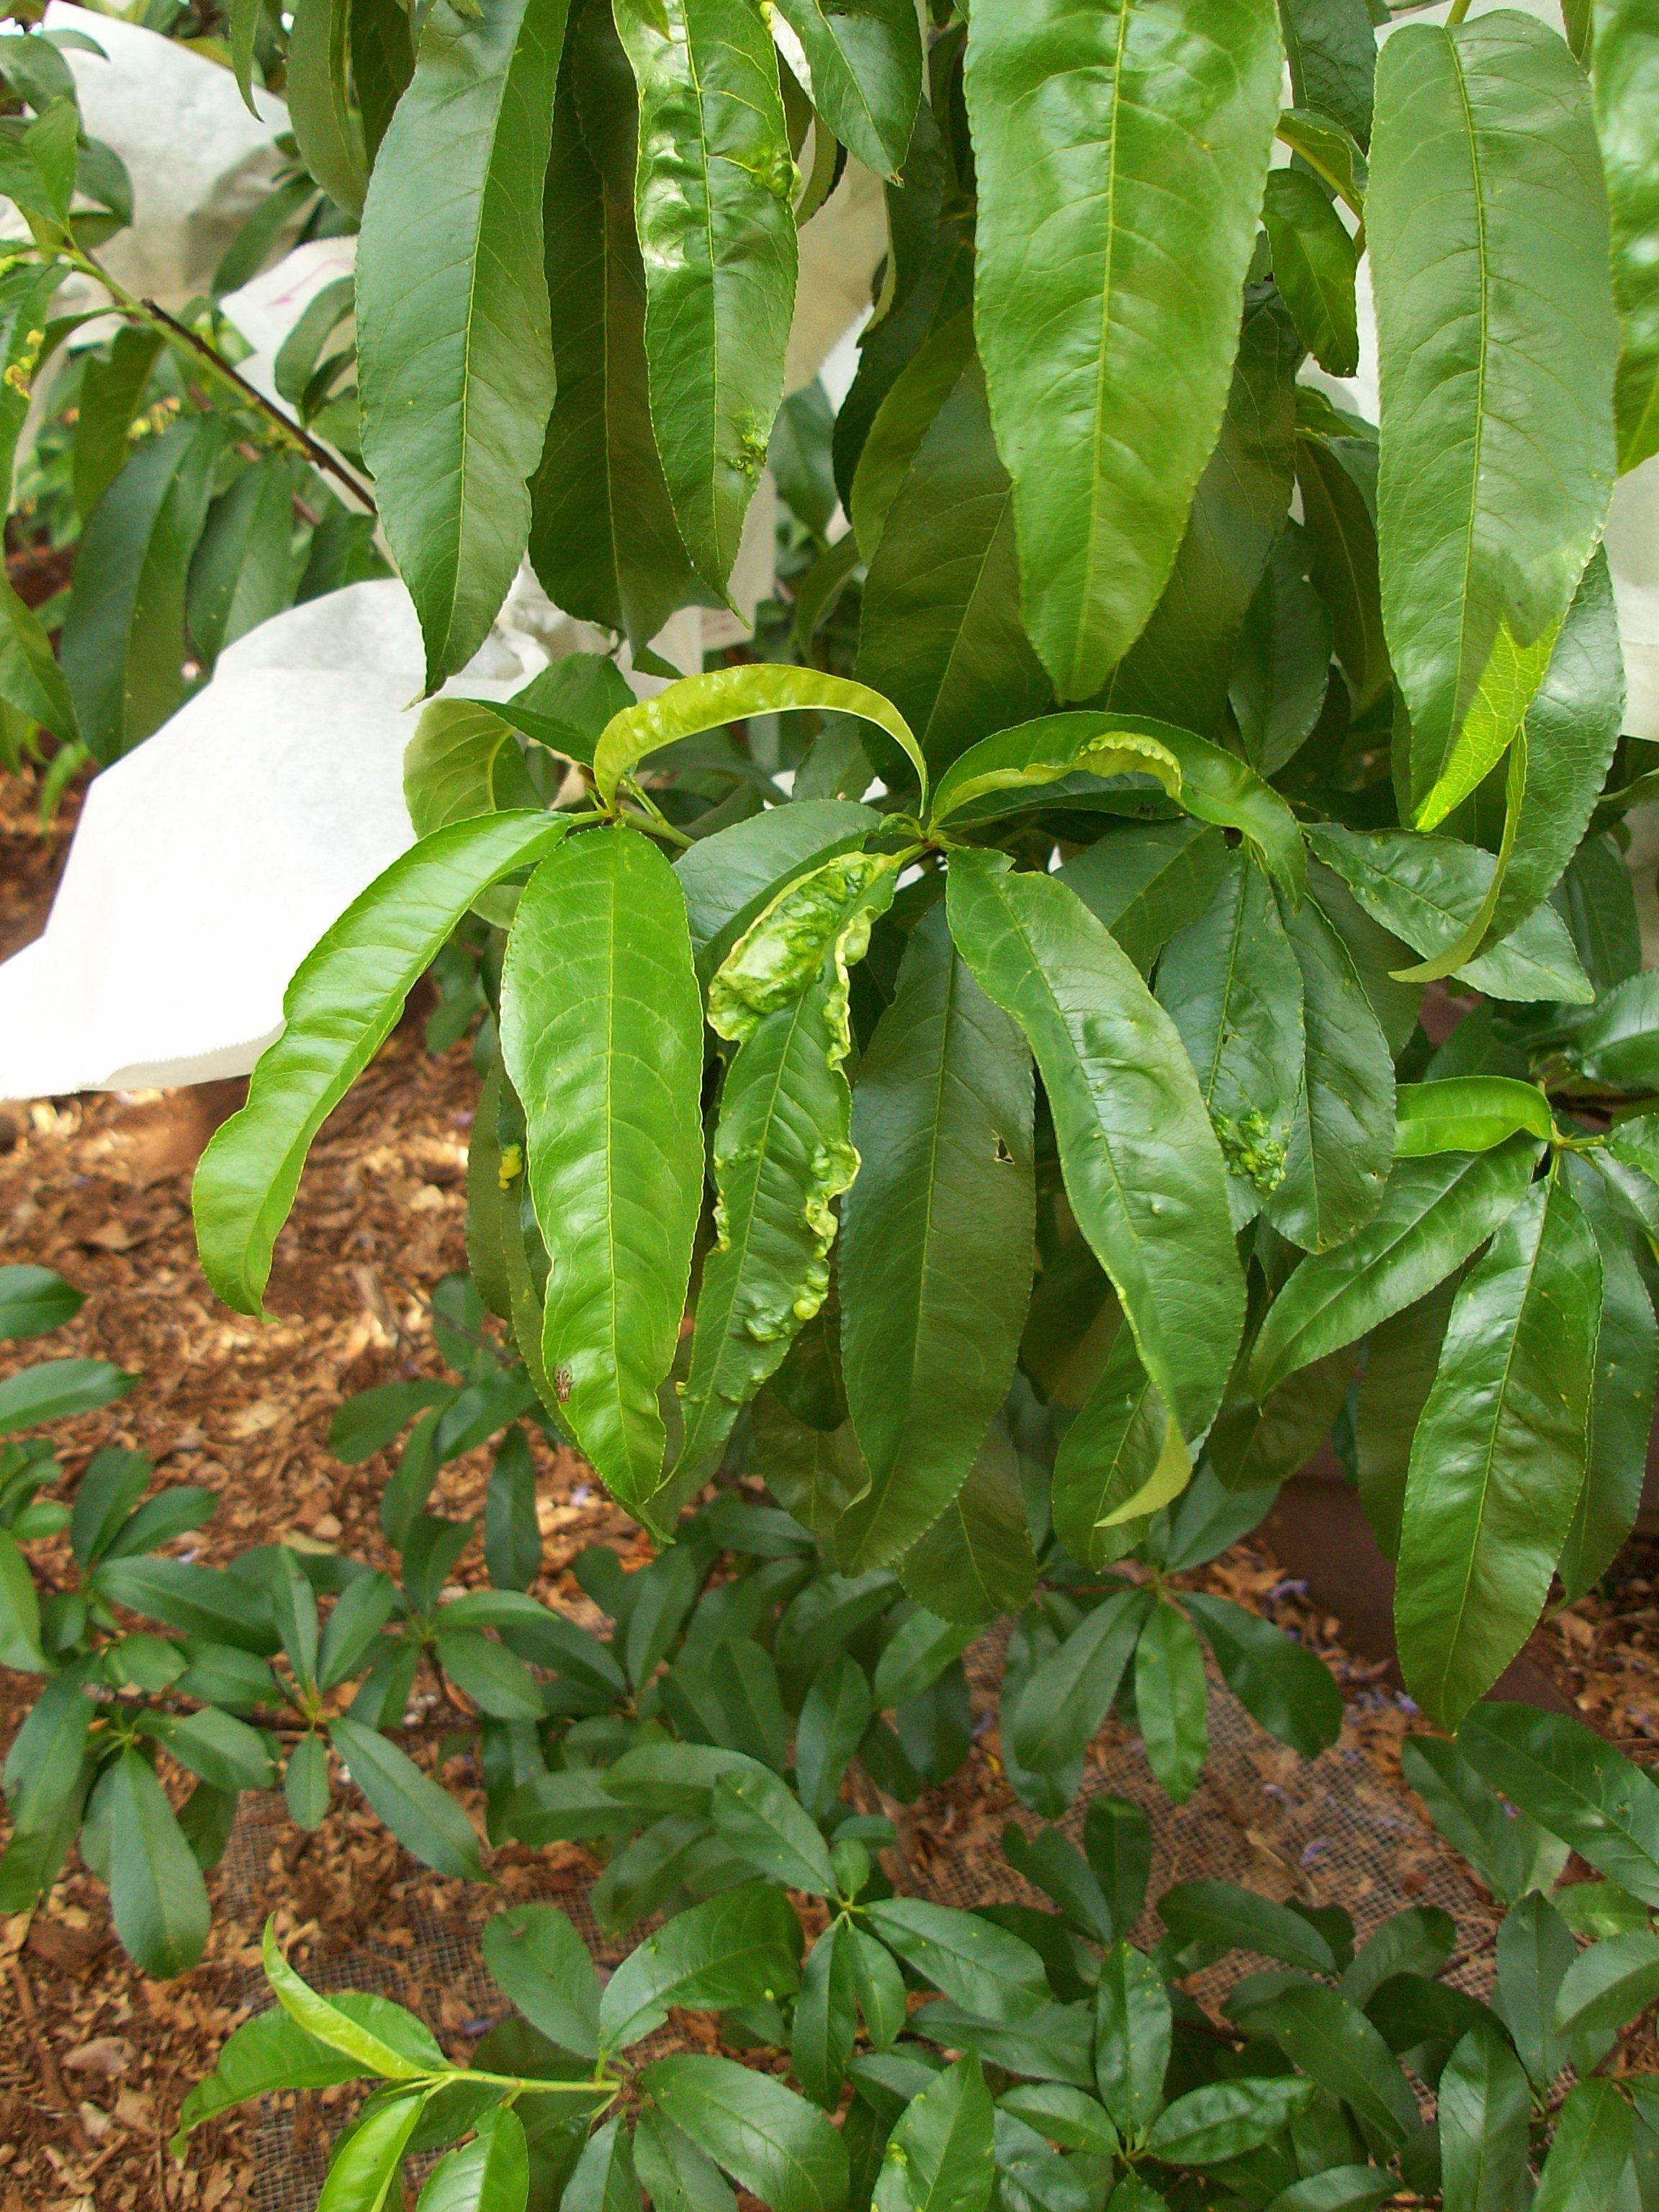Peach leaf: (159, 773, 589, 1334), (946, 16, 1290, 686), (1349, 38, 1619, 819), (481, 806, 695, 1548), (357, 5, 572, 711), (1408, 1188, 1603, 1754), (45, 416, 237, 773), (1182, 1573, 1359, 1775), (324, 1721, 519, 1898), (94, 1747, 220, 2003), (645, 2052, 843, 2212), (871, 1885, 1065, 2029), (484, 1876, 613, 2092), (1004, 1580, 1150, 1766), (702, 1754, 857, 1918), (94, 1545, 300, 1667), (1398, 1730, 1542, 1897), (1497, 1879, 1595, 2107), (1127, 1594, 1218, 1813), (1434, 2026, 1539, 2212), (1087, 1937, 1169, 2121)
